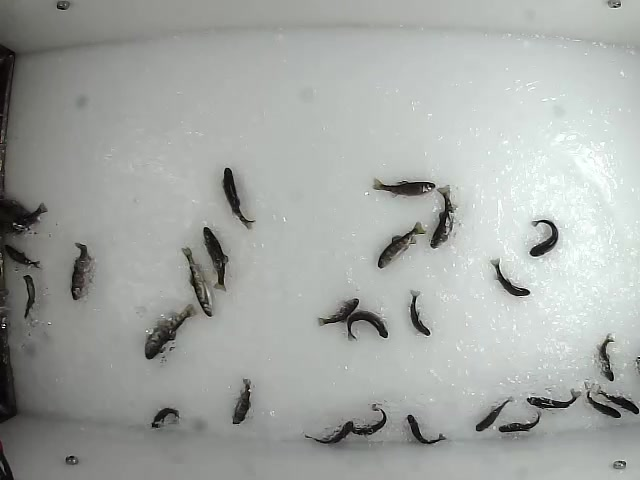fish: (142, 302, 198, 360), (376, 220, 427, 271), (181, 246, 214, 319), (221, 167, 257, 232), (485, 255, 532, 297), (202, 224, 229, 292), (430, 181, 456, 251), (69, 241, 96, 303), (474, 394, 515, 432), (315, 296, 359, 331), (344, 309, 390, 342), (594, 384, 640, 417), (523, 386, 582, 411), (584, 385, 624, 421), (373, 176, 438, 198), (496, 406, 543, 436), (404, 289, 432, 338), (349, 403, 389, 437), (406, 413, 449, 444), (526, 219, 559, 257), (594, 329, 617, 383), (303, 421, 354, 445), (230, 376, 254, 426), (2, 239, 41, 269), (150, 404, 181, 431), (22, 272, 37, 319)
